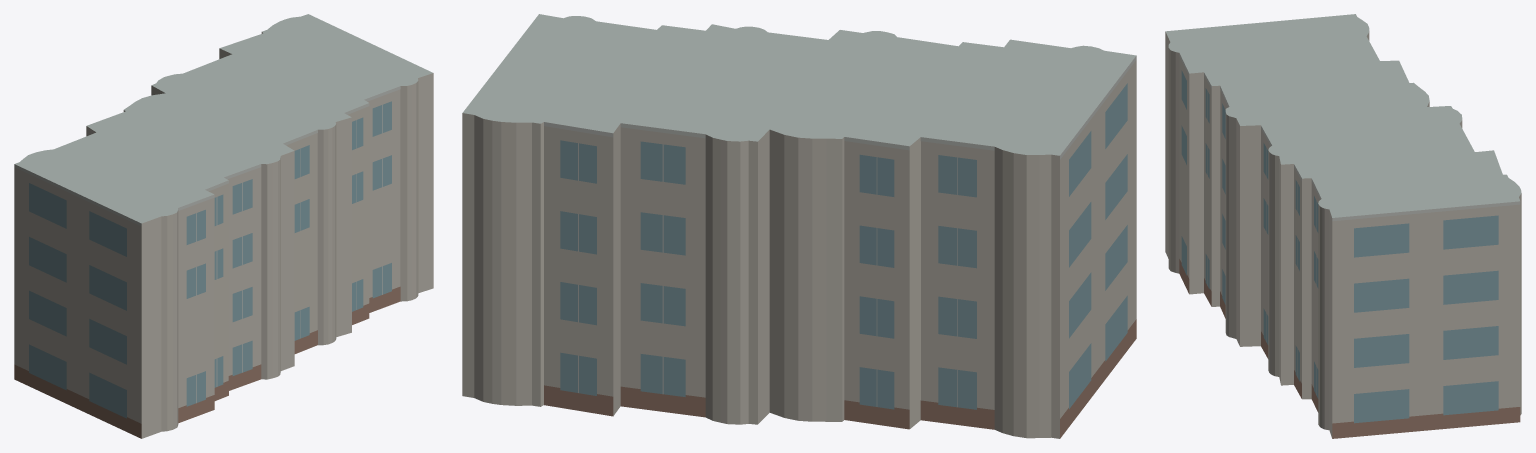
The model's file is survey-upis-32586453.glb.
The picture shows the model from 3 angles, left to right: view 1: azimuth 30°, elevation 25°; view 2: azimuth 150°, elevation 25°; view 3: azimuth 270°, elevation 25°; orthographic projection. The views are drawn at different scales.
Visible parts, largest first — view 1: survey-upis-32586453.tmp; view 2: survey-upis-32586453.tmp; view 3: survey-upis-32586453.tmp.
Boxes of the visible parts, x1,y1,x2,y2 form: survey-upis-32586453.tmp: [14, 14, 433, 438]; survey-upis-32586453.tmp: [462, 14, 1136, 438]; survey-upis-32586453.tmp: [1165, 14, 1521, 438].
Bounding box in the file's own units: 33.29 × 16.8 × 24.54.
